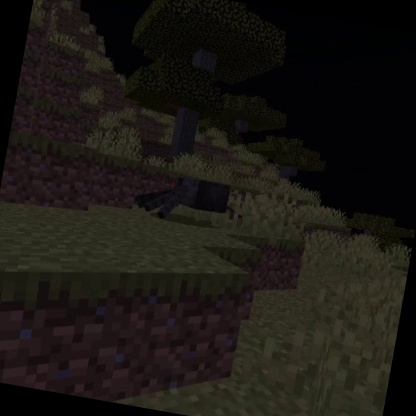spider: (130, 166, 239, 235)
